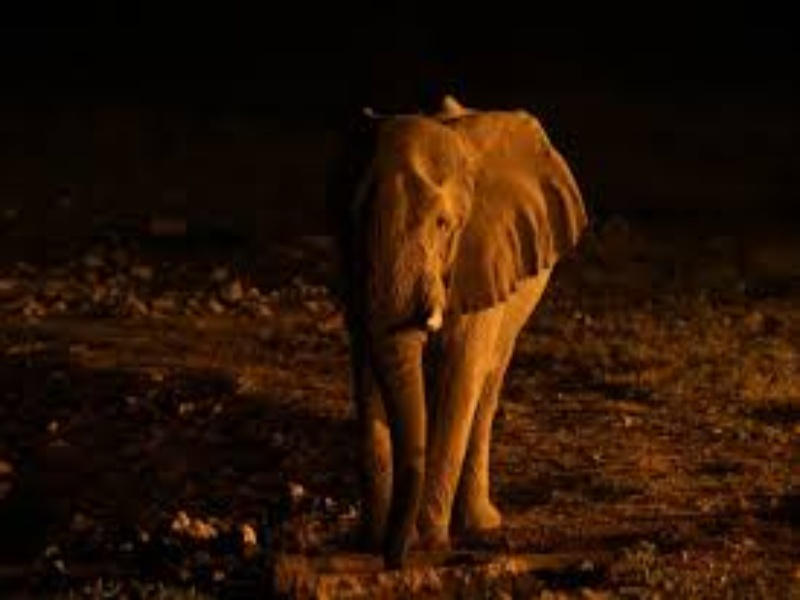elephant: (300, 68, 598, 569)
